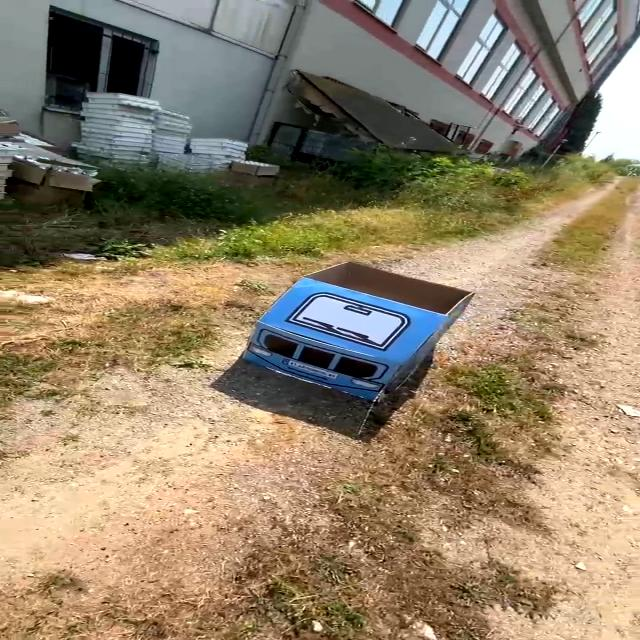blue_car: (210, 255, 501, 416)
